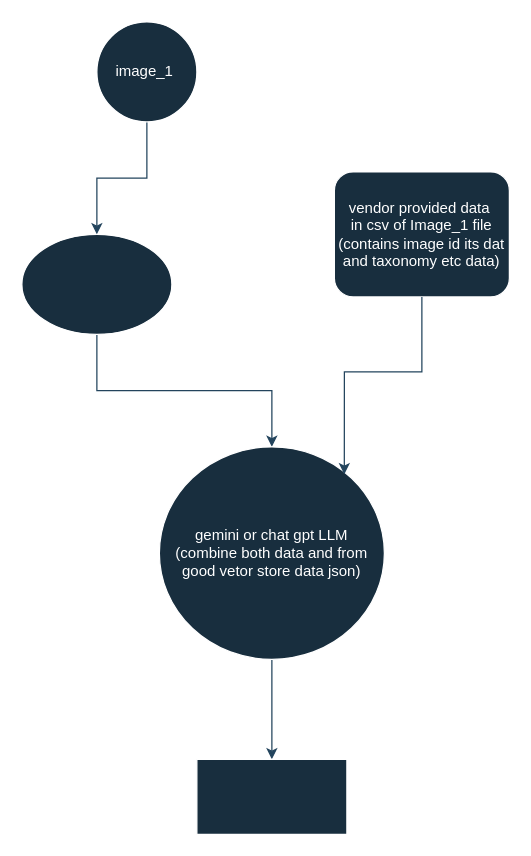
This 531x856 diagram has some shape labels left out. Each missing label, with the centre of its shape:
"cheap/ local vision llm model" goes at point 96,283.
"store data good quality data json in vector" goes at point 271,796.
